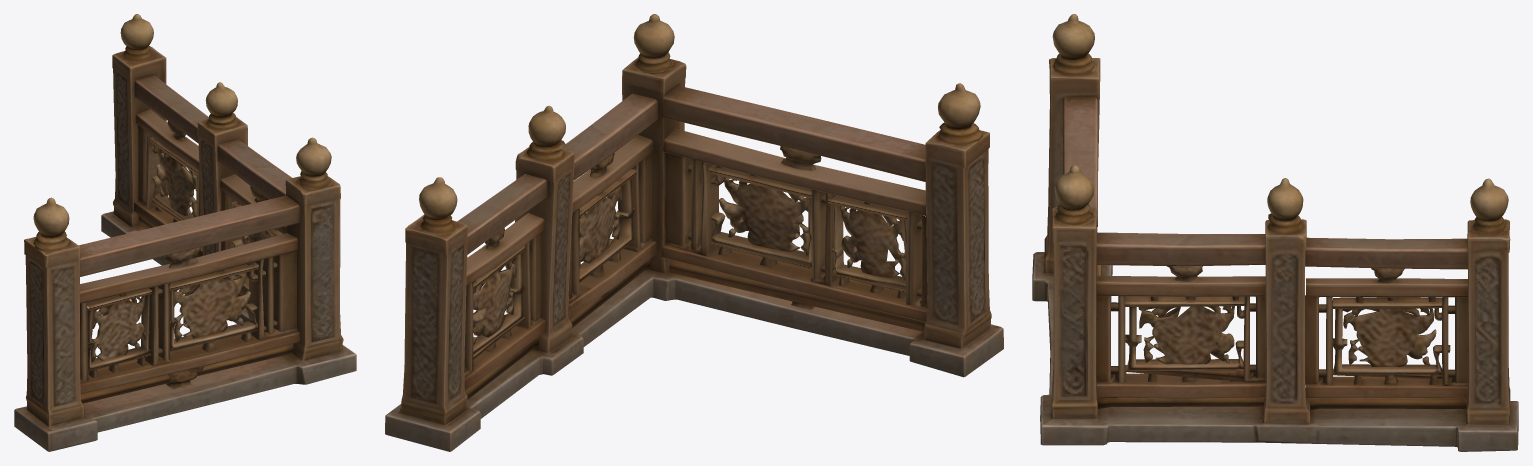
The model's file is 3d栏杆模型.glb.
3 views of the same model, side by side, from view 1: azimuth 30°, elevation 25°; view 2: azimuth 150°, elevation 25°; view 3: azimuth 270°, elevation 25° (orthographic). The views are drawn at different scales.
Parts seen in each view (by area): view 1: tripo_7dc703d6_a1d2_4041_b260_c97bf6648ea2; view 2: tripo_7dc703d6_a1d2_4041_b260_c97bf6648ea2; view 3: tripo_7dc703d6_a1d2_4041_b260_c97bf6648ea2.
Boxes of the visible parts, x1,y1,x2,y2 form: tripo_7dc703d6_a1d2_4041_b260_c97bf6648ea2: (14, 14, 356, 451); tripo_7dc703d6_a1d2_4041_b260_c97bf6648ea2: (385, 14, 1003, 451); tripo_7dc703d6_a1d2_4041_b260_c97bf6648ea2: (1032, 14, 1518, 451).
Size of the model in its own units: 0.8755 by 0.6167 by 0.9995.
1 material, 1 textured.
